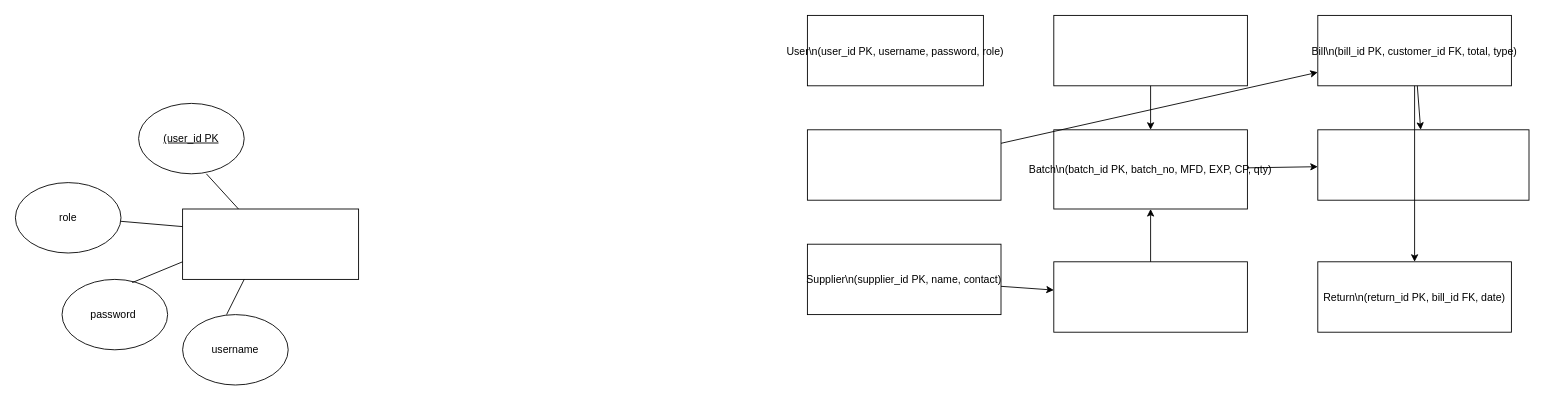
The diagram is 1561 pixels wide and 400 high, and some of its shapes have lost their labels. Here are the shapes that lost their labels. From the top down, the centre of each, then its label:
(1150,50): Medicine\n(medicine_id PK, name, GST, SP)
(904,164): Customer\n(customer_id PK, shop_name, license_holder_name)
(1423,164): Bill_Items\n(item_id PK, bill_id FK, batch_id FK, qty)
(270,243): User
(1150,296): Purchase\n(purchase_id PK, supplier_id FK, date)
